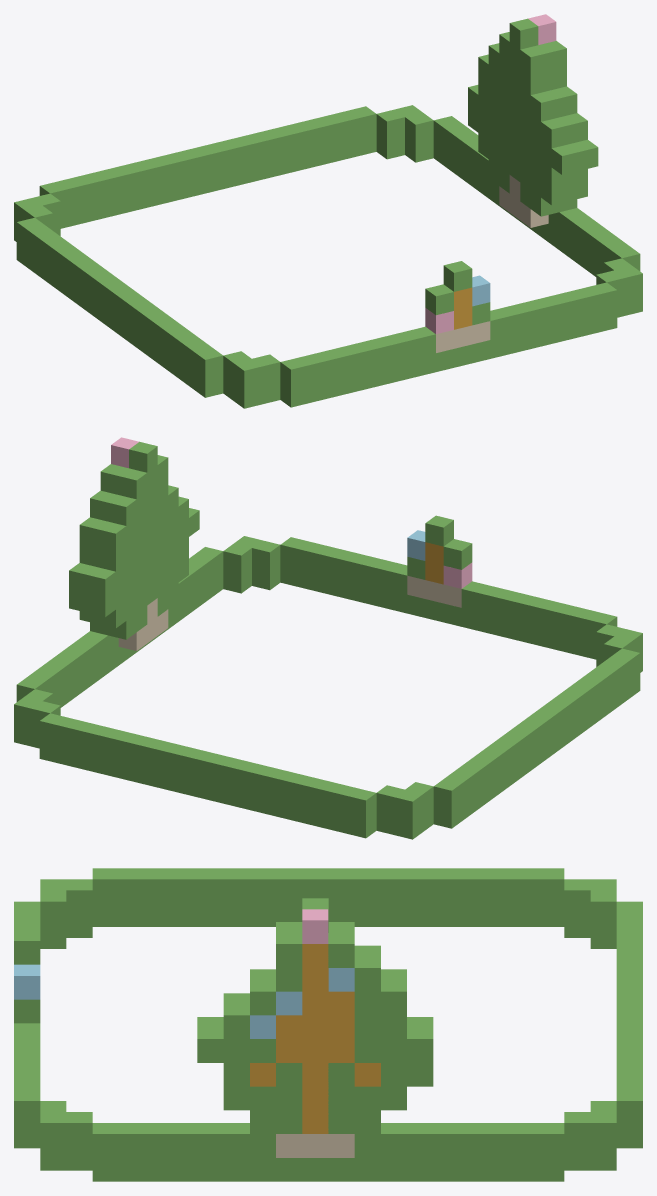
Rendered from britney-acc1.02b9ba77.glb.
3 renders of one model, top to bottom at view 1: azimuth 30°, elevation 25°; view 2: azimuth 150°, elevation 25°; view 3: azimuth 270°, elevation 25°, orthographic. The views are drawn at different scales.
Parts seen in each view (by area): view 1: verde, beige, rosa, dorado; view 2: verde, beige, rosa, dorado; view 3: verde, dorado, celeste, beige, rosa.
Boxes of the visible parts, x1,y1,x2,y2 form: verde: [14, 18, 642, 408]; beige: [436, 175, 548, 352]; rosa: [425, 14, 556, 334]; dorado: [454, 287, 472, 329]; verde: [14, 441, 642, 839]; beige: [118, 575, 461, 650]; rosa: [111, 437, 472, 588]; dorado: [425, 542, 443, 584]; verde: [14, 868, 642, 1181]; dorado: [250, 944, 380, 1133]; celeste: [14, 964, 354, 1038]; beige: [276, 1134, 354, 1157]; rosa: [302, 909, 328, 943].
Bounding box in the file's own units: 0.44 × 0.2017 × 0.44.
